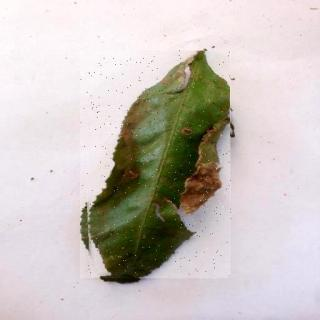Algal Leaf: (82, 52, 233, 280)
